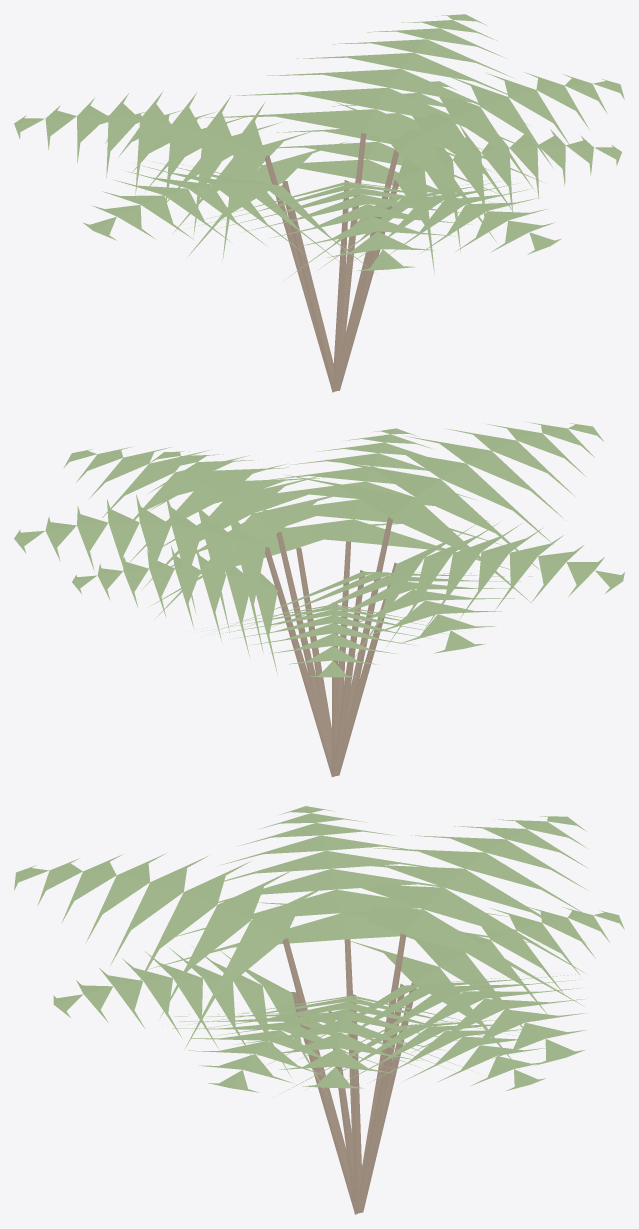
Rendered from Blender_Bracken_1.glb.
The picture shows the model from 3 angles, top to bottom: view 1: azimuth 30°, elevation 25°; view 2: azimuth 150°, elevation 25°; view 3: azimuth 270°, elevation 25°; orthographic projection. The views are drawn at different scales.
Visible parts, largest first — view 1: Blender_Bracken_1; view 2: Blender_Bracken_1; view 3: Blender_Bracken_1.
Part boxes in pixels (box(x1,y1,x2,y2)): Blender_Bracken_1: box(14, 14, 624, 392); Blender_Bracken_1: box(14, 421, 624, 777); Blender_Bracken_1: box(14, 806, 624, 1214).
Size of the model in its own units: 1.45 by 0.699 by 1.3.
